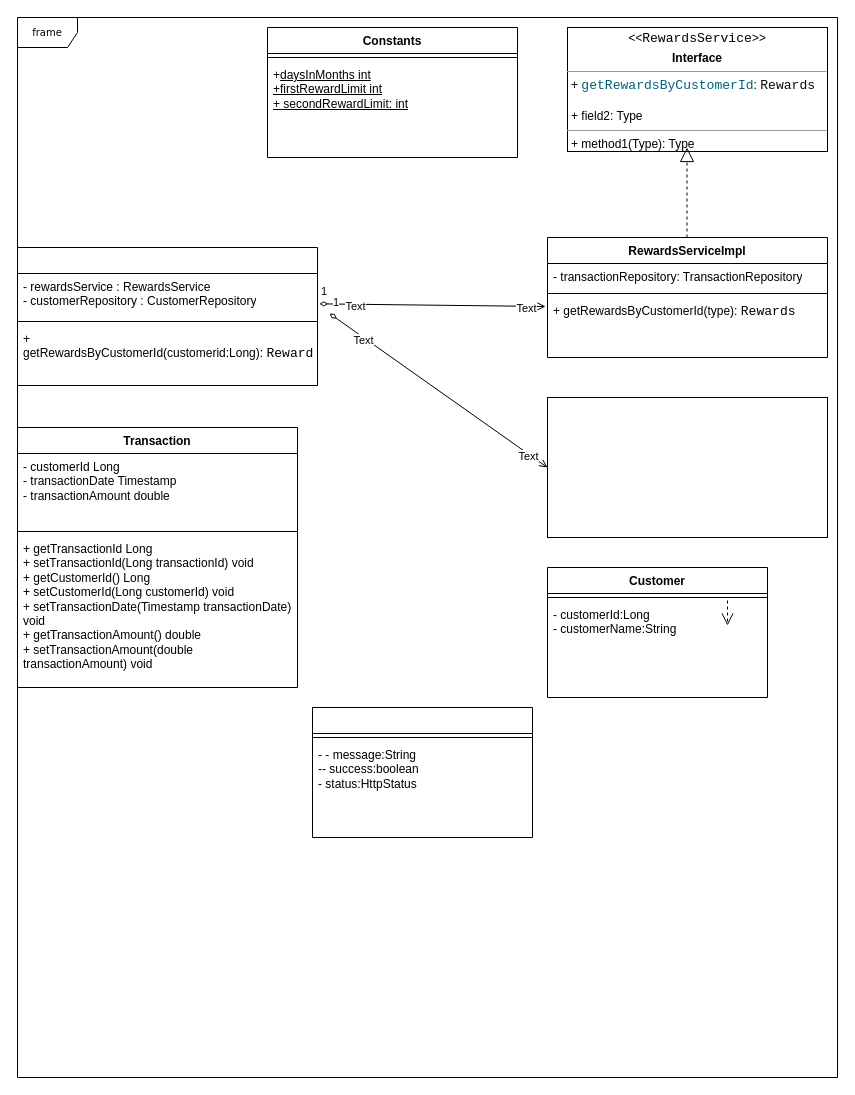
Image size: 855x1095. Some labels were removed from this diagram. The box of each missing label's shape, as (x1, y1, x2, y2) in pixels:
<<Interface>> CustomerRepository + findByCustomerId(Long customerId) Customer: (546, 396, 828, 538)
ApiResponse: (312, 706, 532, 838)
RewardsController: (16, 246, 318, 386)
